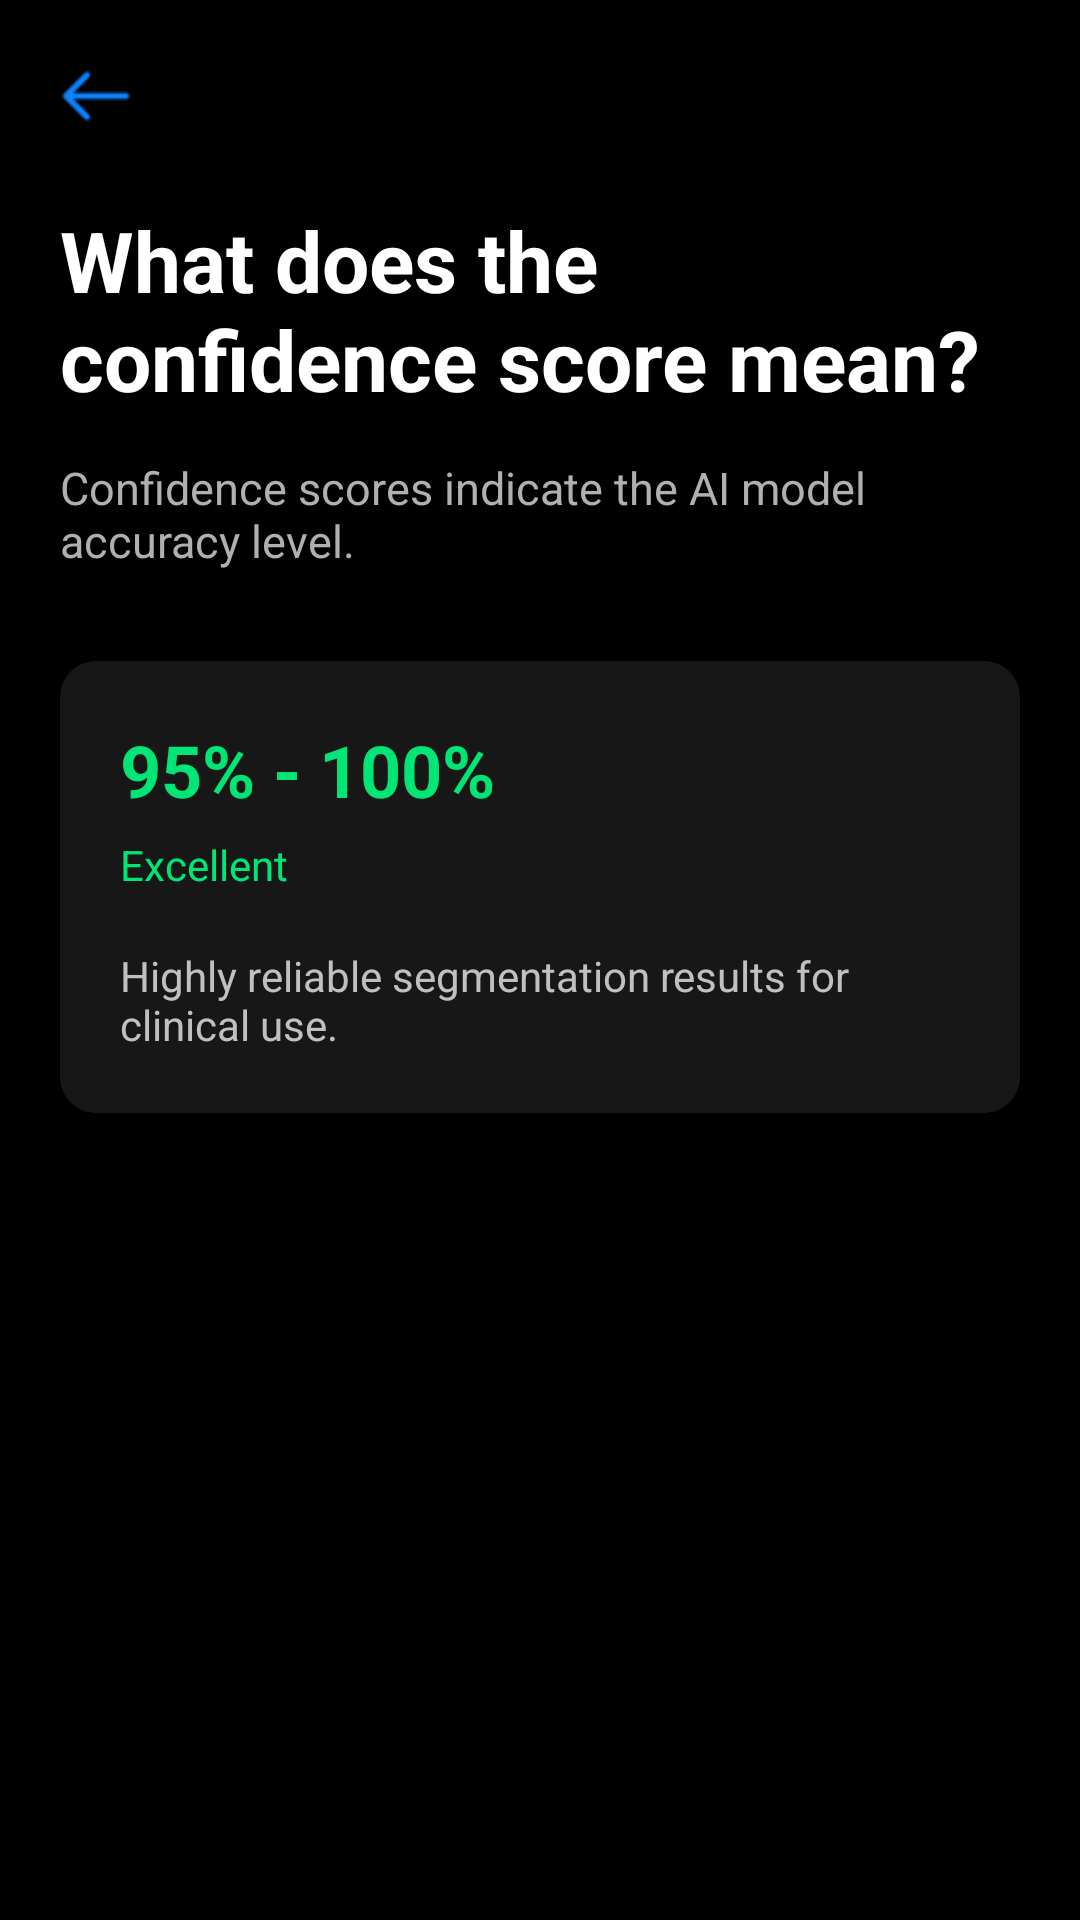

Point at icon controls on the screen. Image size 1080px x 1920px, points as [x,y].
back: [96,96]
